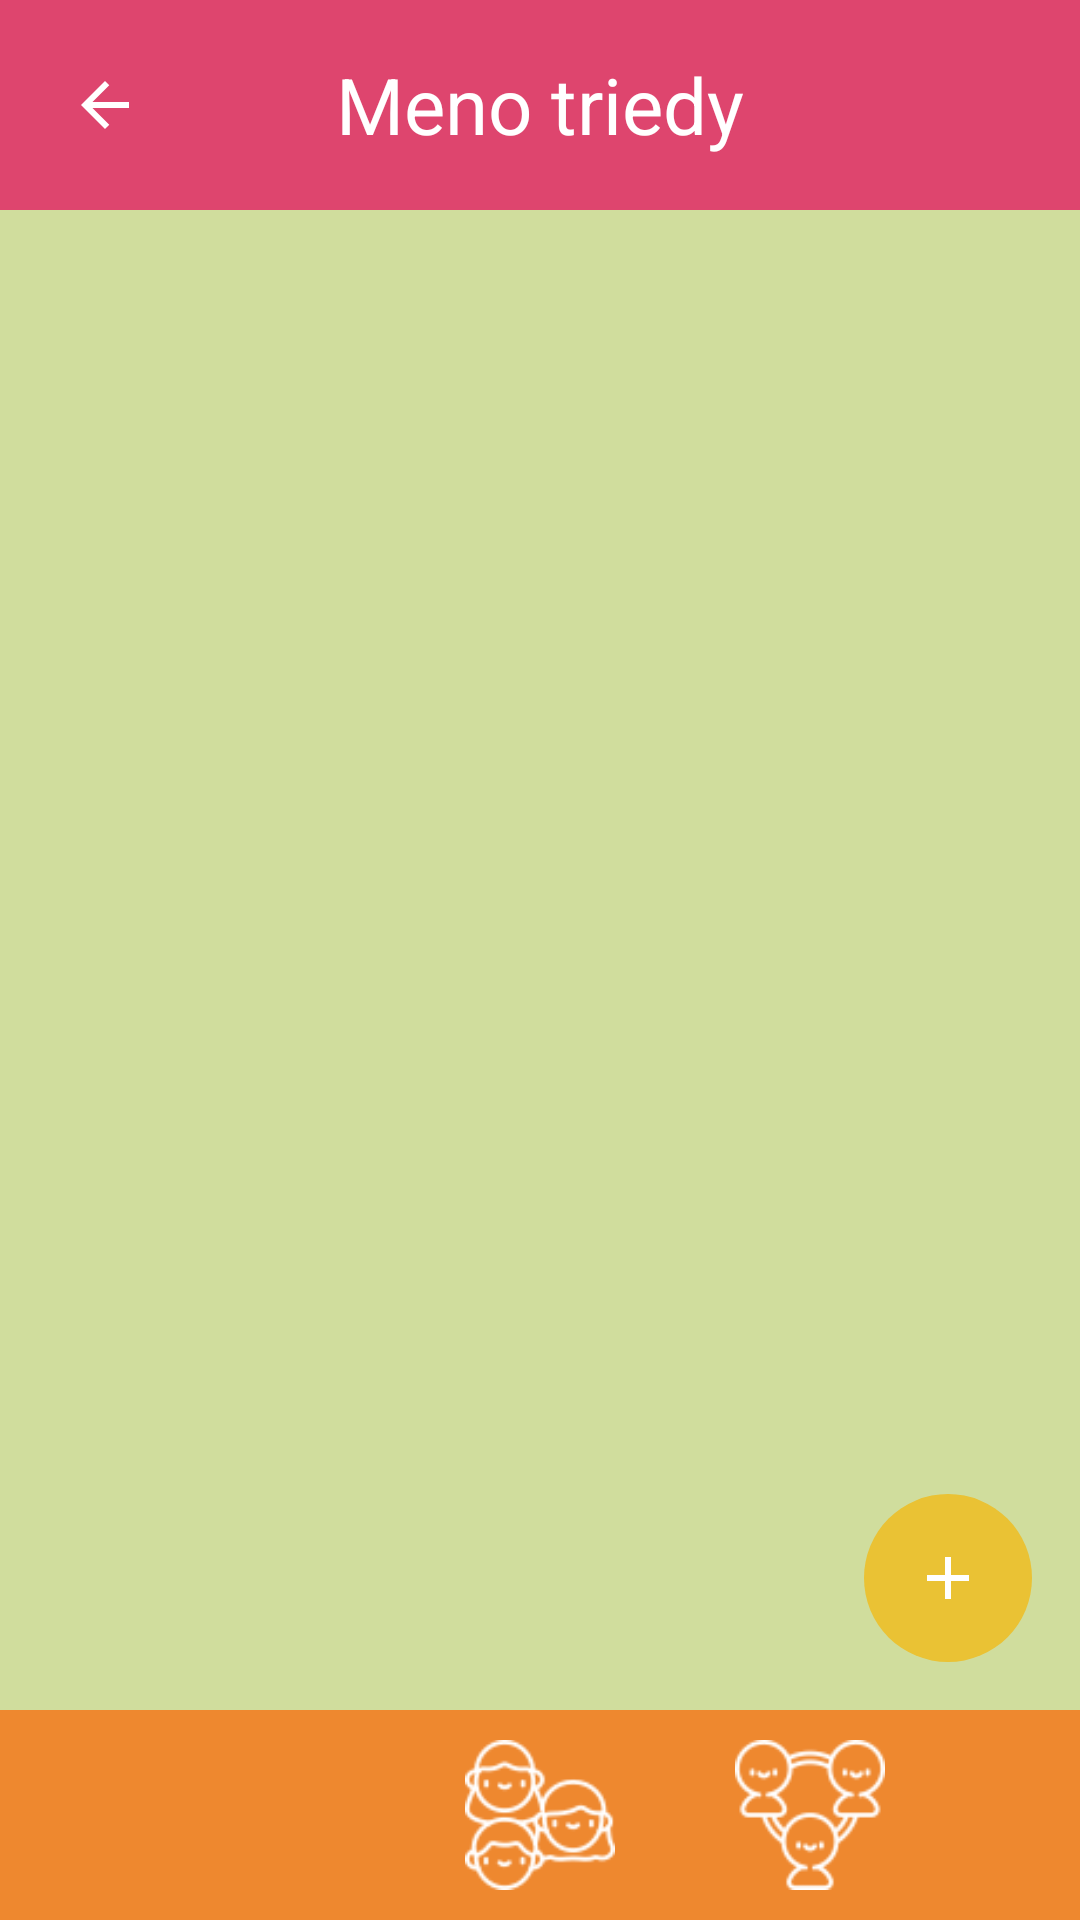

Screen size 1080w x 1920h. Icon name, then its box in pixels as box(x1, y1, x2, y2):
skupiny: box(735, 1740, 885, 1890)
študenti: box(465, 1740, 615, 1890)
